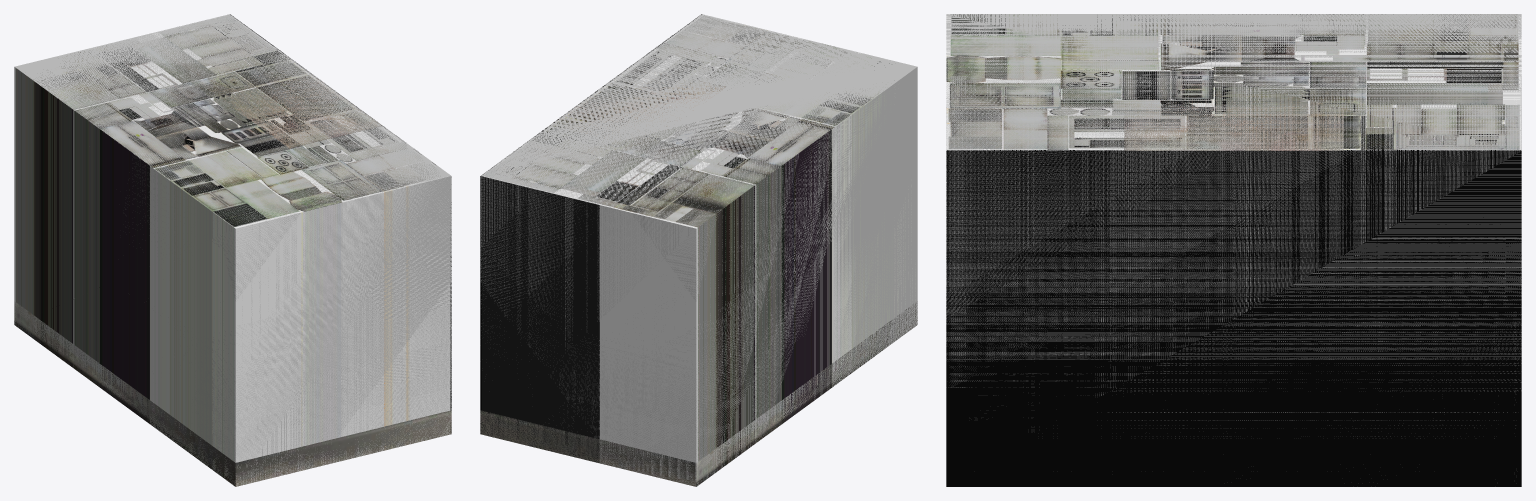
Rendered from overhead_range_hood.DAE.
The picture shows the model from 3 angles, left to right: view 1: azimuth 30°, elevation 25°; view 2: azimuth 150°, elevation 25°; view 3: azimuth 270°, elevation 25°; orthographic projection. The views are drawn at different scales.
Parts seen in each view (by area): view 1: colbox-1, bounds, overhead_range_hood100; view 2: colbox-1, bounds, overhead_range_hood100; view 3: colbox-1, bounds, overhead_range_hood100.
Boxes of the visible parts, x1=… form: colbox-1: x1=14, y1=14, x2=451, y2=486; bounds: x1=15, y1=14, x2=451, y2=483; overhead_range_hood100: x1=14, y1=67, x2=451, y2=486; colbox-1: x1=480, y1=14, x2=915, y2=486; bounds: x1=480, y1=14, x2=917, y2=479; overhead_range_hood100: x1=480, y1=68, x2=917, y2=486; colbox-1: x1=946, y1=14, x2=1521, y2=486; bounds: x1=946, y1=14, x2=1521, y2=438; overhead_range_hood100: x1=1124, y1=93, x2=1343, y2=150.
Bounding box in the file's own units: 64.5 × 114 × 73.71.
